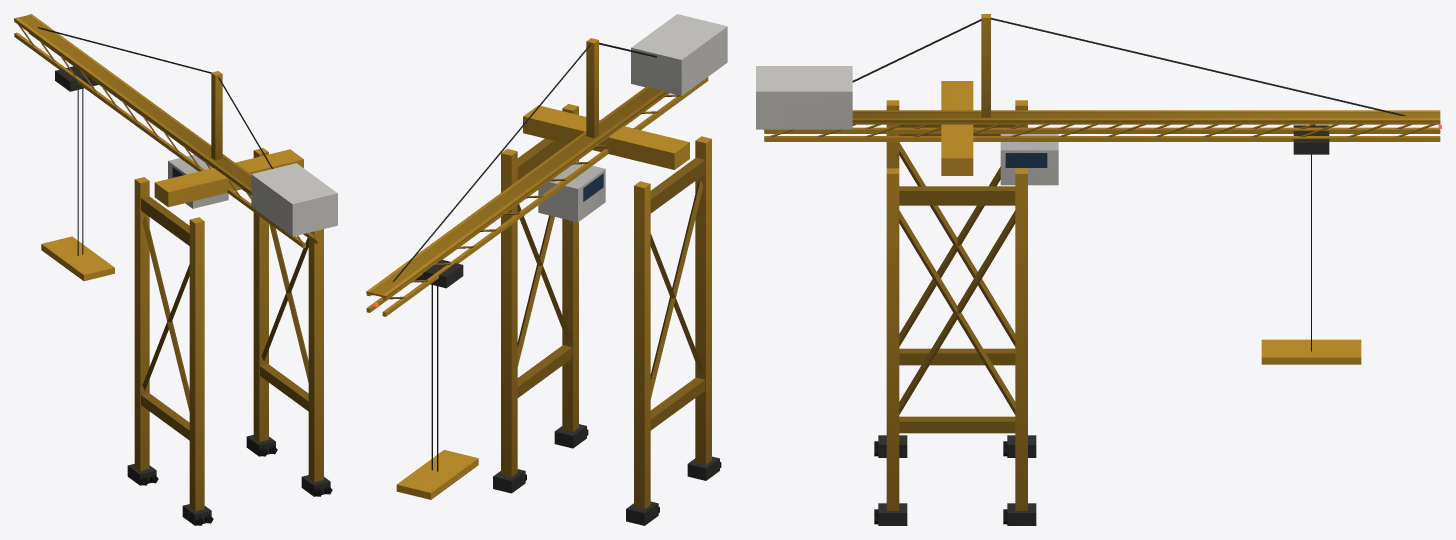
Rendered from mi_crane_lo-DK9VxhnM.glb.
3 views of the same model, side by side, from view 1: azimuth 30°, elevation 25°; view 2: azimuth 150°, elevation 25°; view 3: azimuth 270°, elevation 25° (orthographic). The views are drawn at different scales.
Size of the model in its own units: 11.42 by 32.3 by 42.6.
